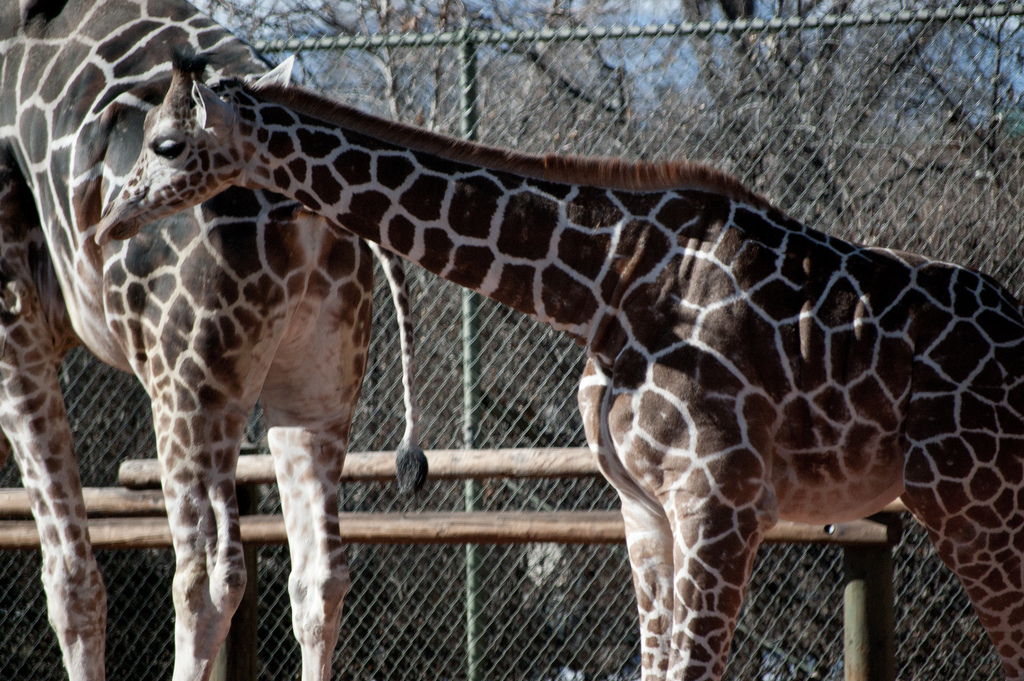giraffe: (132, 69, 988, 633), (3, 13, 399, 631)
